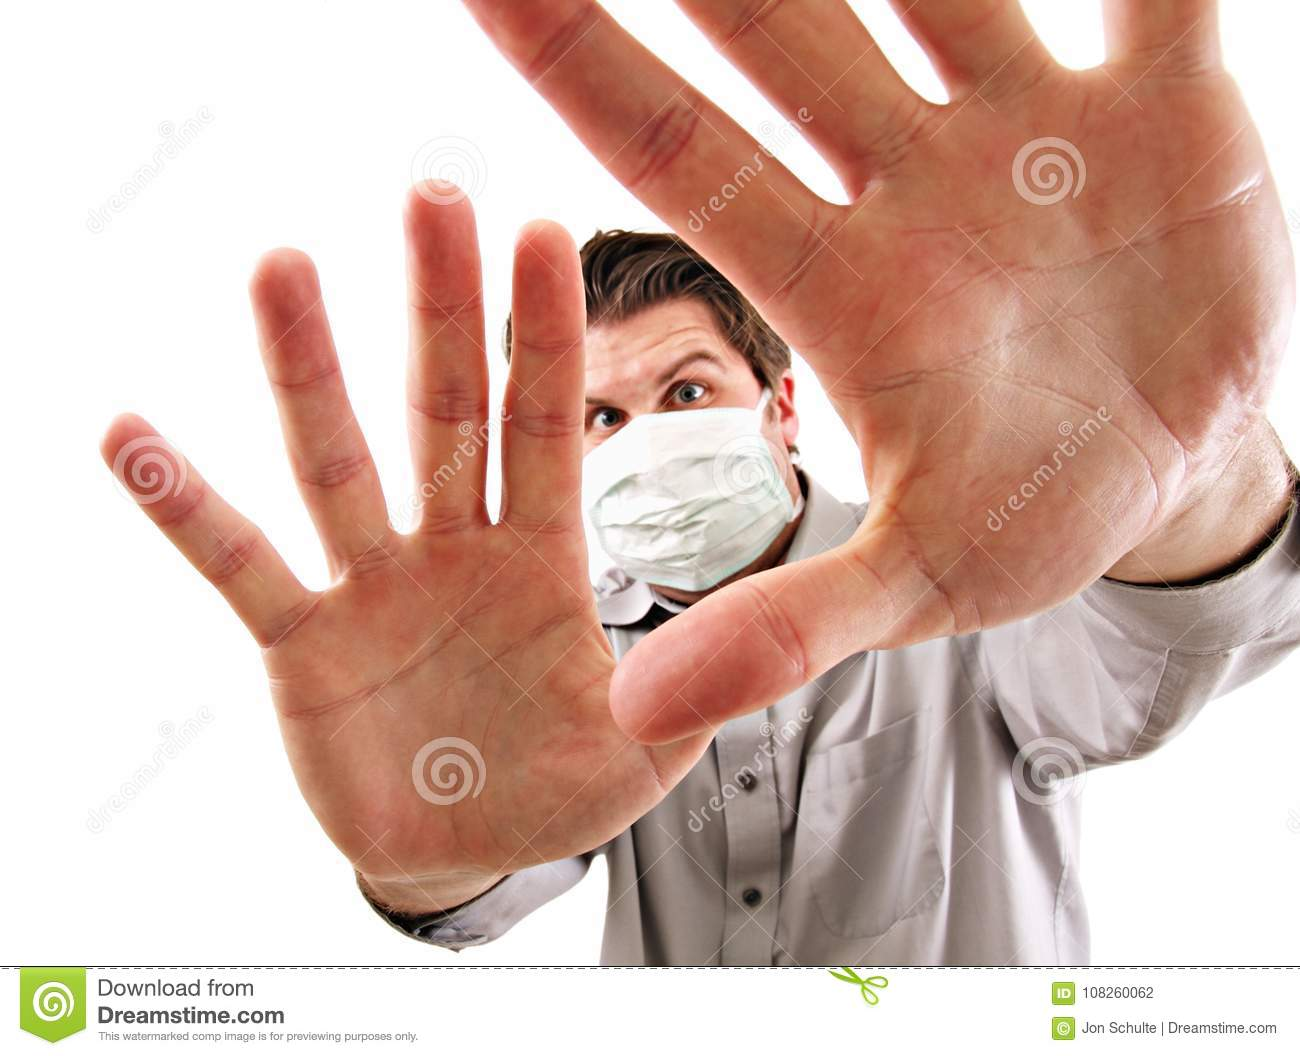mask: (576, 407, 799, 592)
